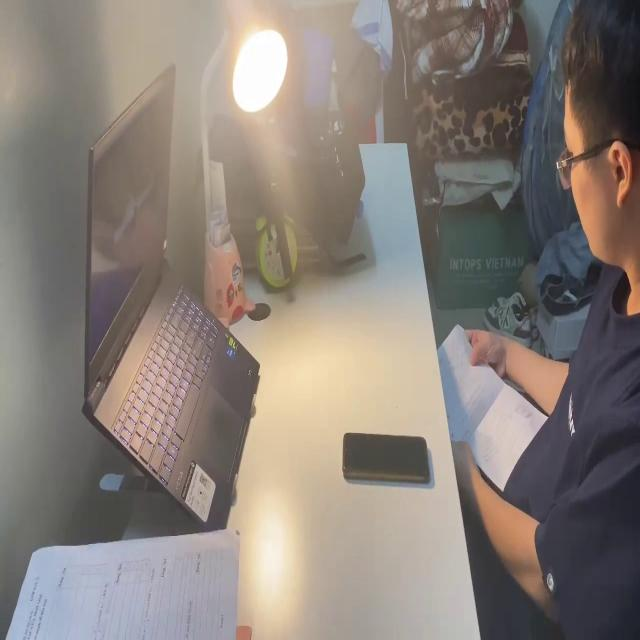book: (7, 528, 241, 640), (436, 318, 550, 495)
laptop: (80, 55, 264, 527)
phone: (341, 420, 431, 487)
student: (445, 0, 640, 640)
